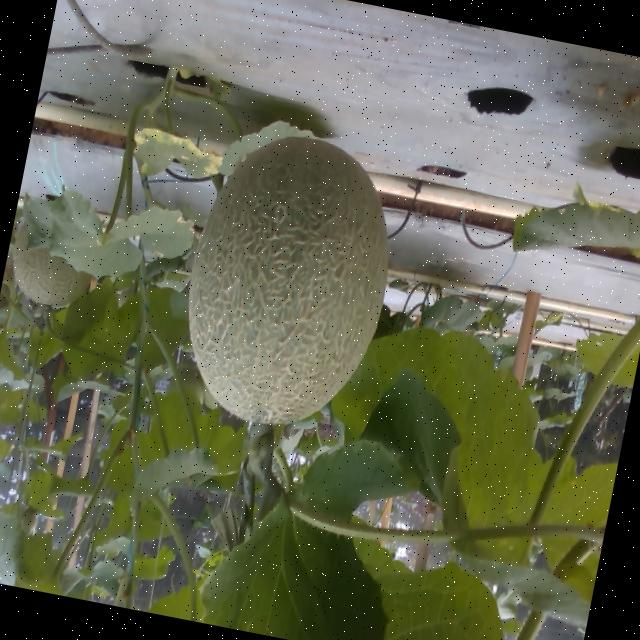melon: (187, 137, 387, 423)
